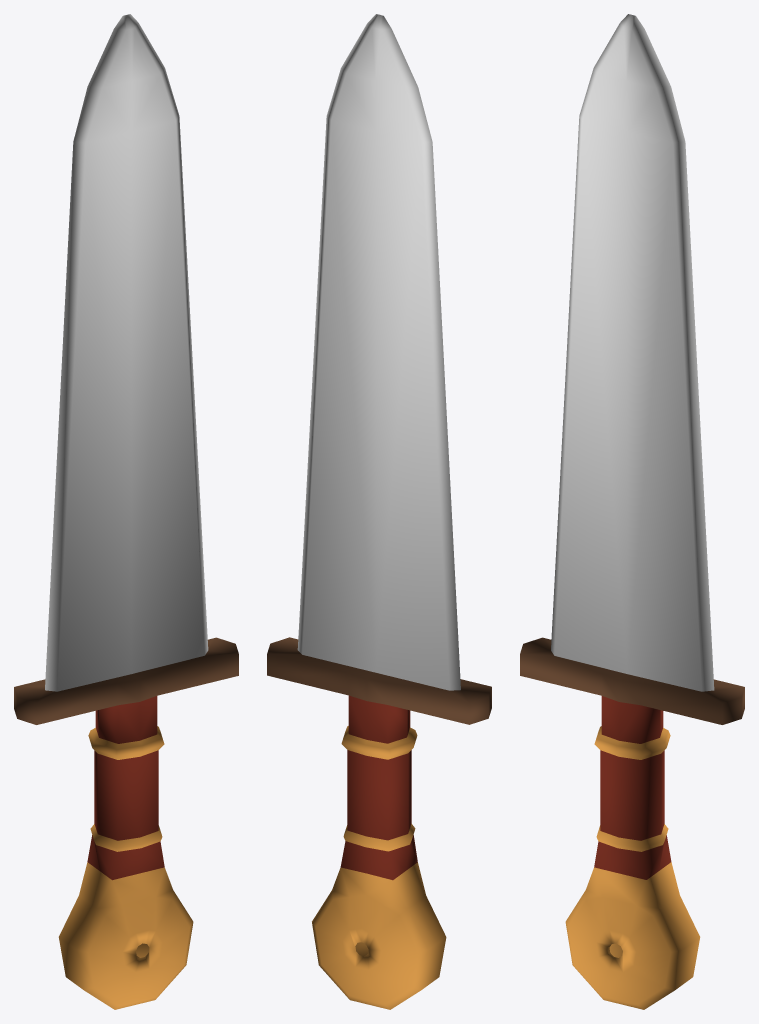
File: ShortSword.gltf
3 views of the same model, side by side, from view 1: azimuth 30°, elevation 25°; view 2: azimuth 150°, elevation 25°; view 3: azimuth 330°, elevation 25° (orthographic).
Parts seen in each view (by area): view 1: Node1; view 2: Node1; view 3: Node1.
Part boxes in pixels (x1=…): Node1: x1=14, y1=14, x2=238, y2=1009; Node1: x1=267, y1=14, x2=491, y2=1009; Node1: x1=520, y1=14, x2=744, y2=1009.
Size of the model in its own units: 0.8021 by 3.45 by 0.216.
